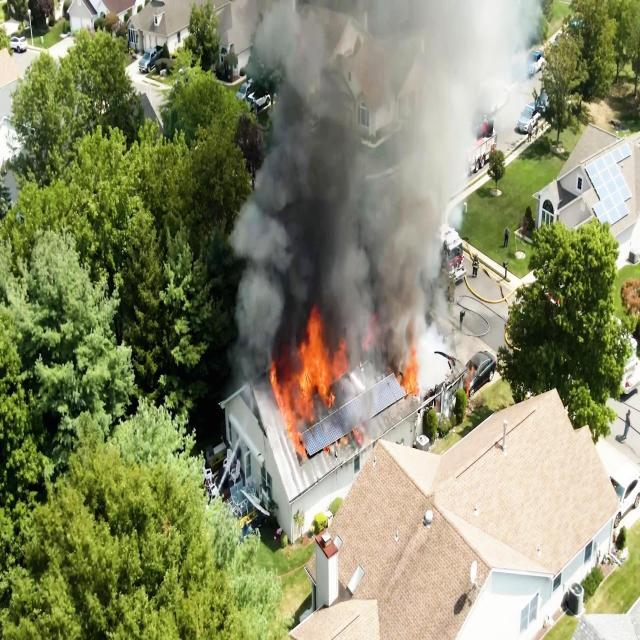Fire: (262, 312, 364, 441), (396, 348, 421, 396)
Smoke: (258, 36, 424, 306), (390, 34, 445, 307)
